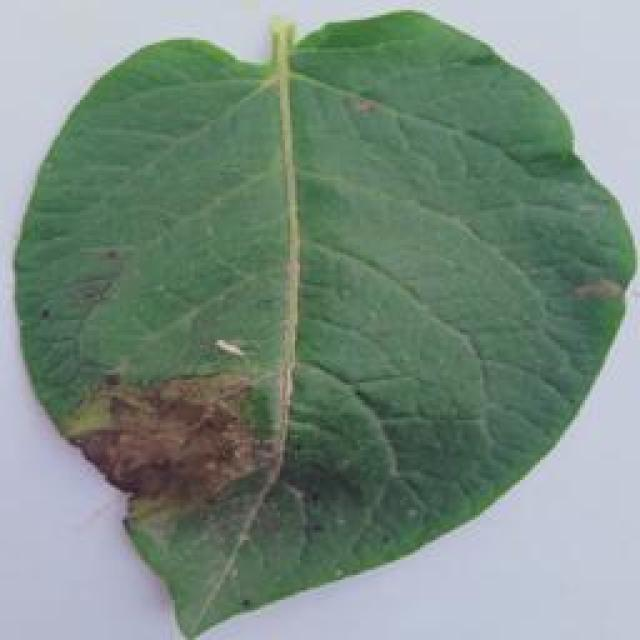Potato_Late_Blight: (0, 0, 622, 632)
